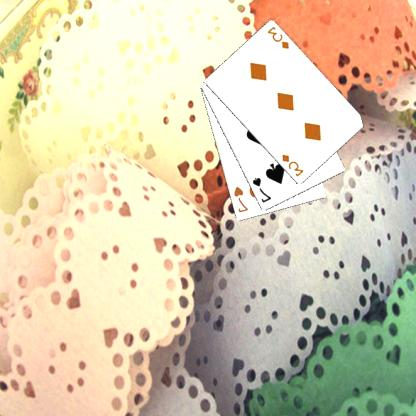3D: (281, 152, 307, 178), (266, 24, 292, 50)
7H: (233, 184, 252, 214)
7S: (251, 175, 274, 204)
